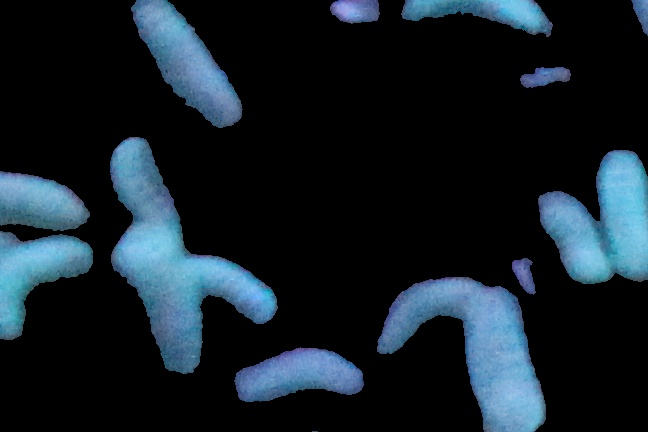larvae: (102, 222, 218, 384), (117, 1, 247, 122), (462, 285, 546, 432), (1, 233, 96, 342), (101, 135, 193, 234), (380, 270, 487, 351), (235, 341, 365, 403), (181, 248, 276, 328), (1, 164, 103, 235), (599, 146, 648, 284), (538, 188, 607, 285), (397, 1, 550, 39)
